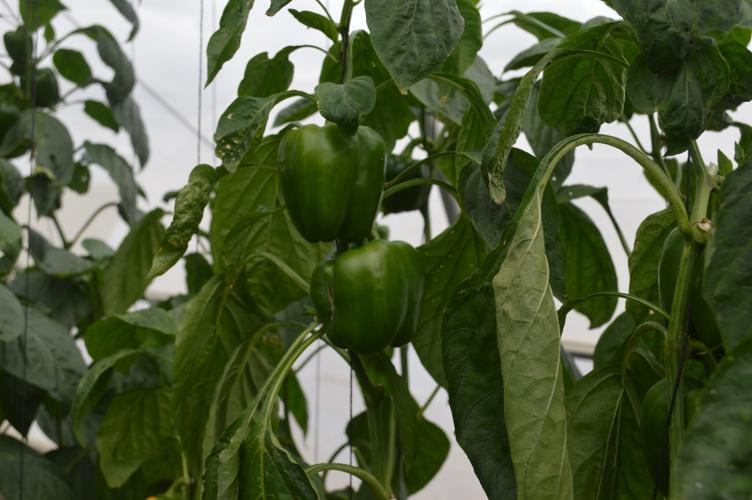BellPepper: (273, 122, 389, 244), (310, 238, 423, 349)
